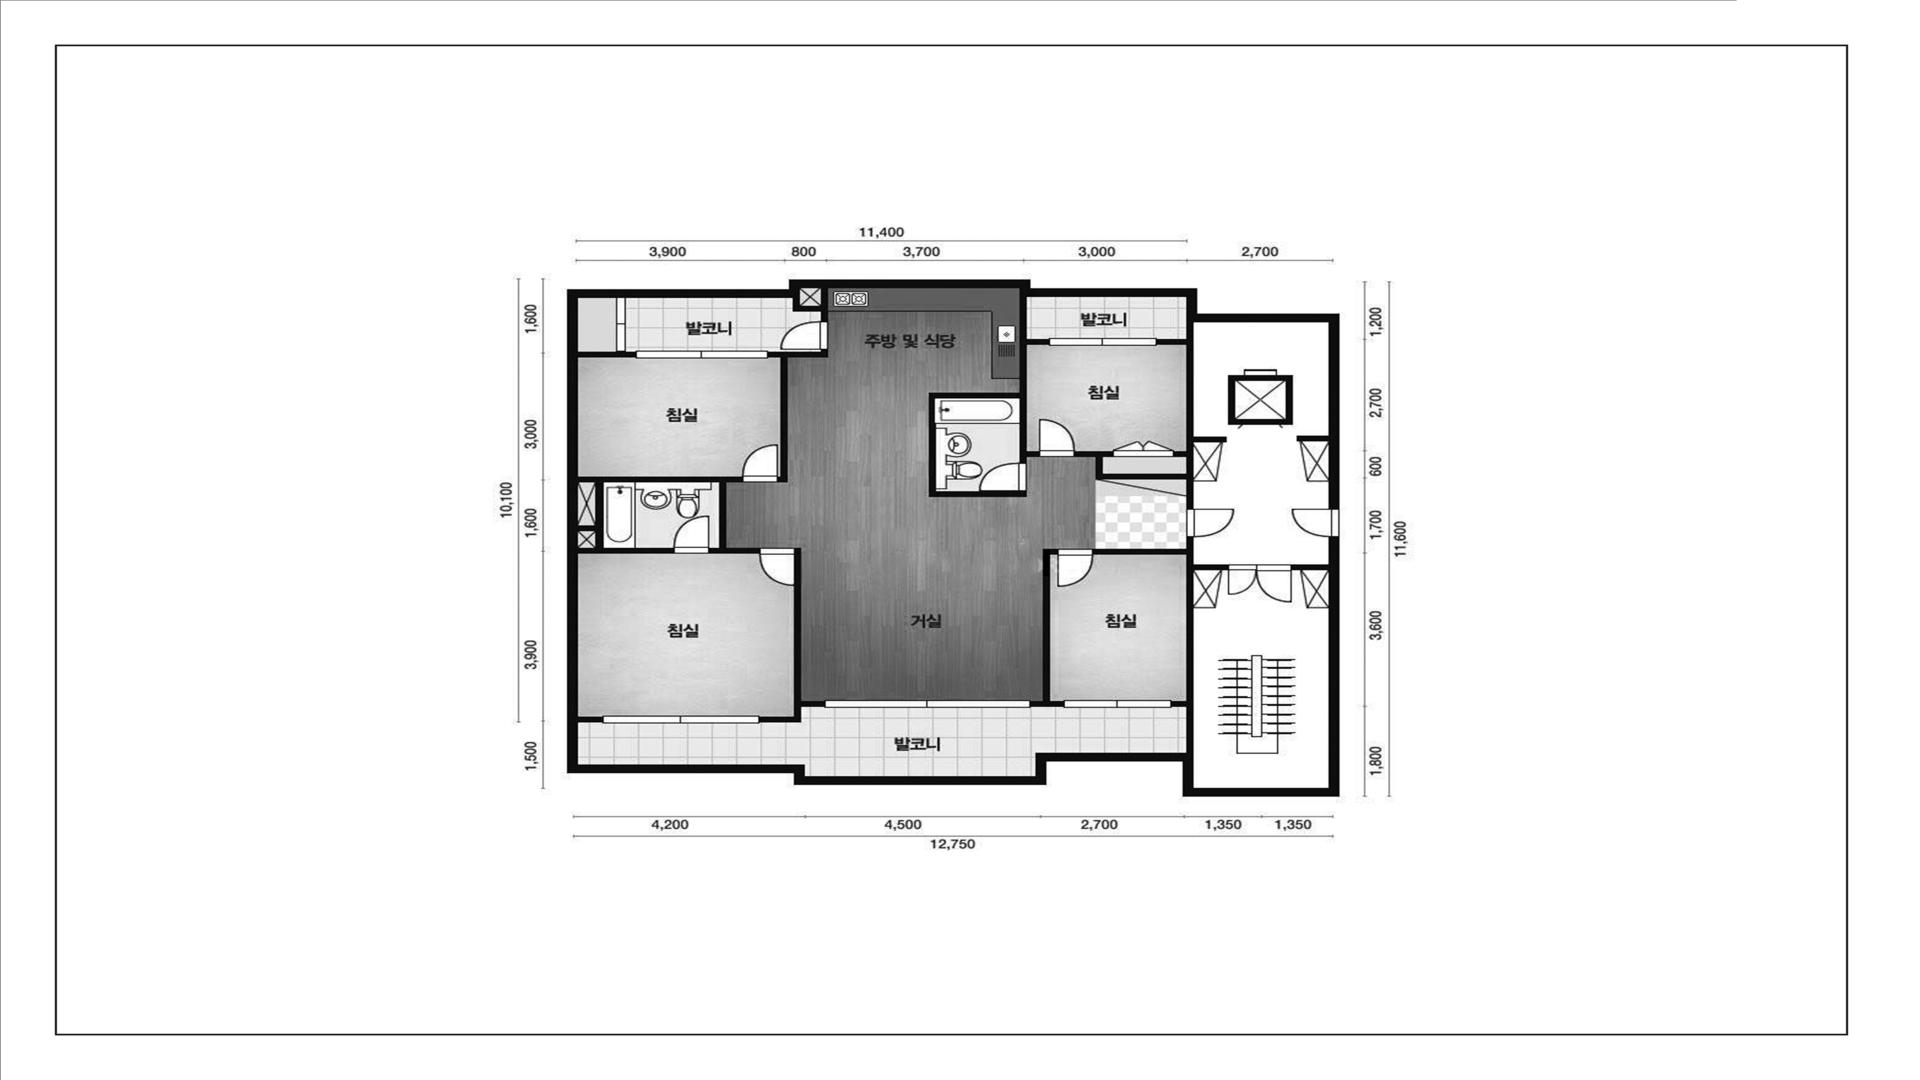door: (1228, 564, 1292, 603), (779, 320, 828, 351), (1291, 508, 1340, 538), (978, 462, 1027, 492), (673, 516, 711, 554), (1038, 418, 1075, 456), (1058, 549, 1095, 587), (741, 444, 778, 483), (1187, 508, 1234, 537), (760, 547, 794, 585), (1112, 439, 1174, 456)
wall: (567, 280, 1340, 796), (1093, 537, 1229, 753), (1075, 322, 1226, 509), (928, 297, 1048, 497), (578, 476, 760, 554), (760, 549, 824, 723), (767, 349, 828, 483), (1031, 549, 1064, 707), (793, 287, 828, 320), (578, 352, 636, 357), (1298, 435, 1328, 442), (1292, 564, 1329, 570), (578, 716, 603, 723)
window: (824, 700, 1031, 708), (603, 716, 760, 724), (636, 351, 767, 359), (1048, 338, 1158, 345), (1064, 700, 1172, 708), (616, 298, 626, 352)
